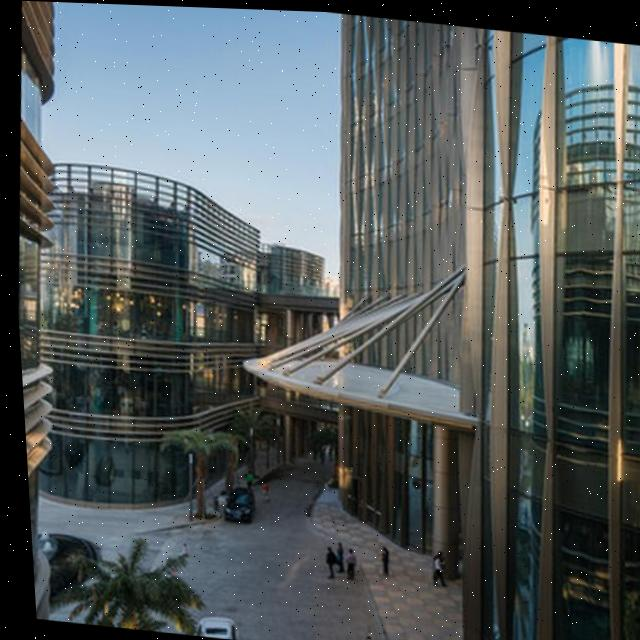building: (288, 11, 640, 640), (19, 155, 348, 518)
